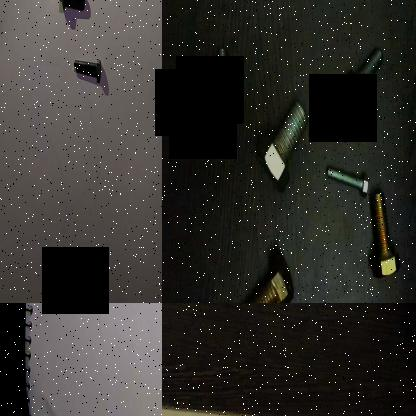Bolts: (256, 95, 311, 196), (230, 246, 300, 303), (337, 40, 390, 112), (367, 184, 401, 293), (206, 37, 240, 121), (322, 157, 372, 200), (72, 52, 104, 84), (56, 0, 88, 13)
